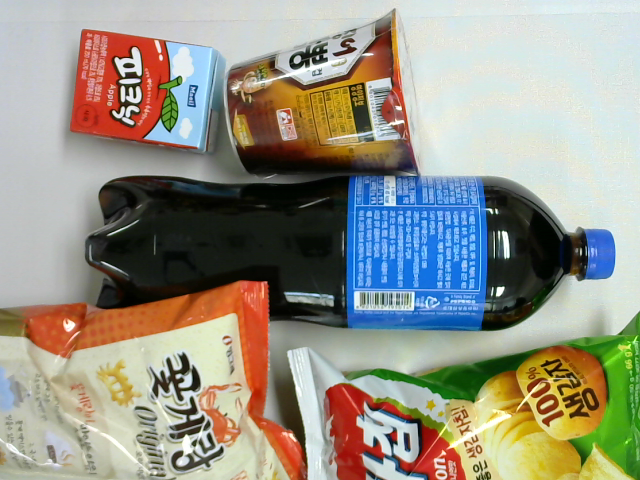Crabrang: (1, 281, 307, 480)
Ojjam: (224, 9, 426, 185)
Pepsi_Cola_1.5L: (94, 175, 615, 331)
Picnic_Apple: (69, 28, 227, 152)
Pocachip_Onion: (288, 309, 635, 480)
